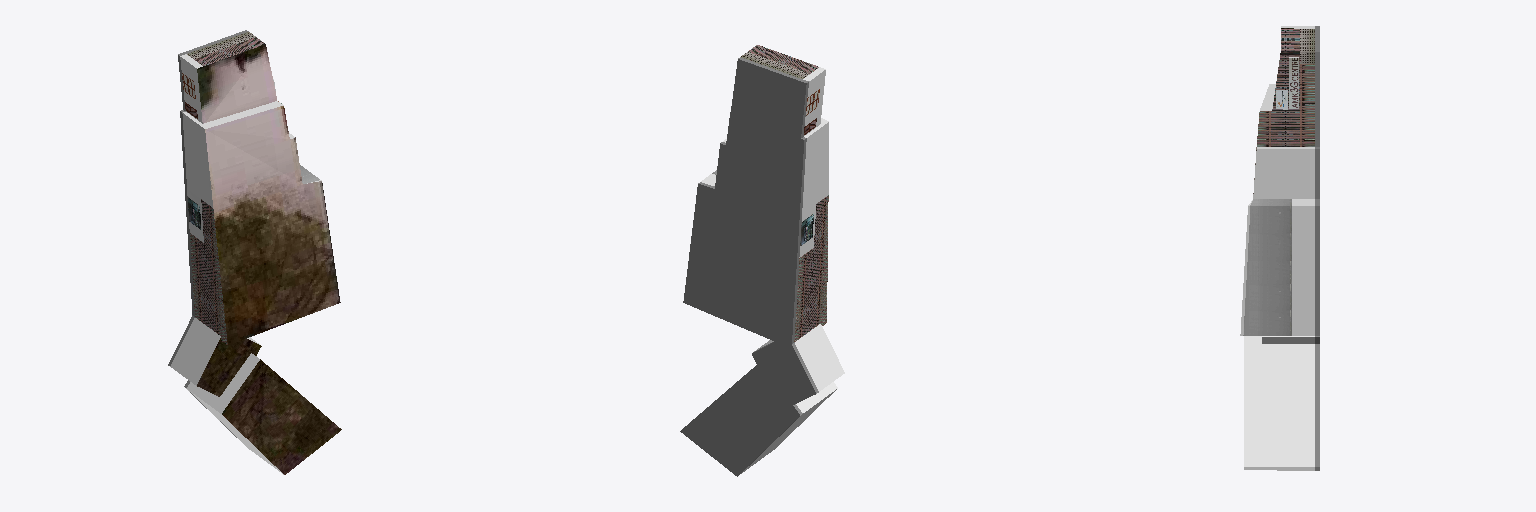
3 views of the same model, side by side, from view 1: azimuth 30°, elevation 25°; view 2: azimuth 150°, elevation 25°; view 3: azimuth 270°, elevation 25° (orthographic).
Parts seen in each view (by area): view 1: polygon.878; view 2: polygon.878; view 3: polygon.878.
Boxes of the visible parts, <box> form: polygon.878: <box>168,30,341,474</box>; polygon.878: <box>680,45,844,476</box>; polygon.878: <box>1240,26,1319,470</box>.
Size of the model in its own units: 16.43 by 48.02 by 8.24.
Materials: 1 (1 with a texture image).